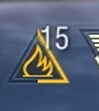1fire: (4, 52, 73, 87)
